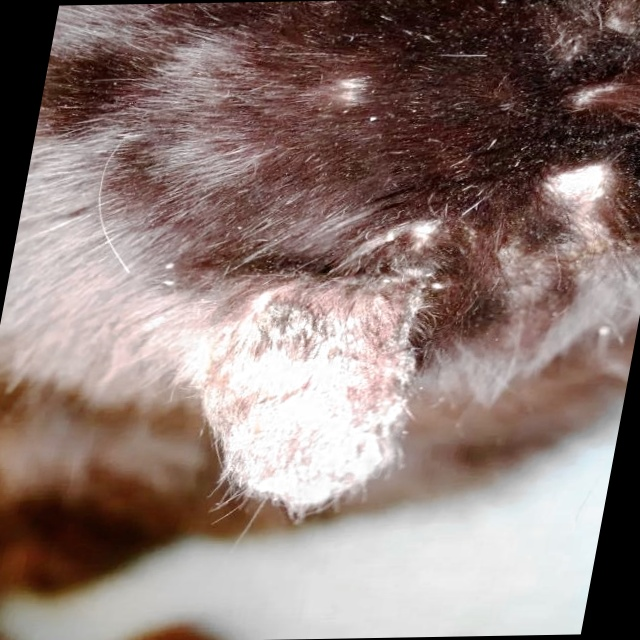ringworm: (222, 300, 396, 436)
